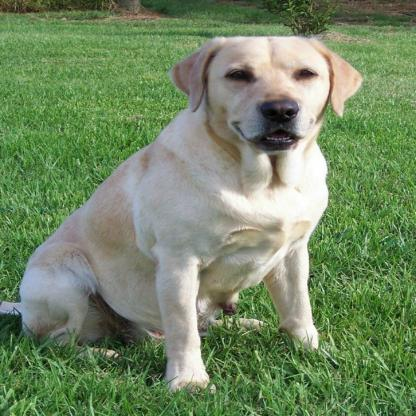dog: (0, 35, 364, 392)
